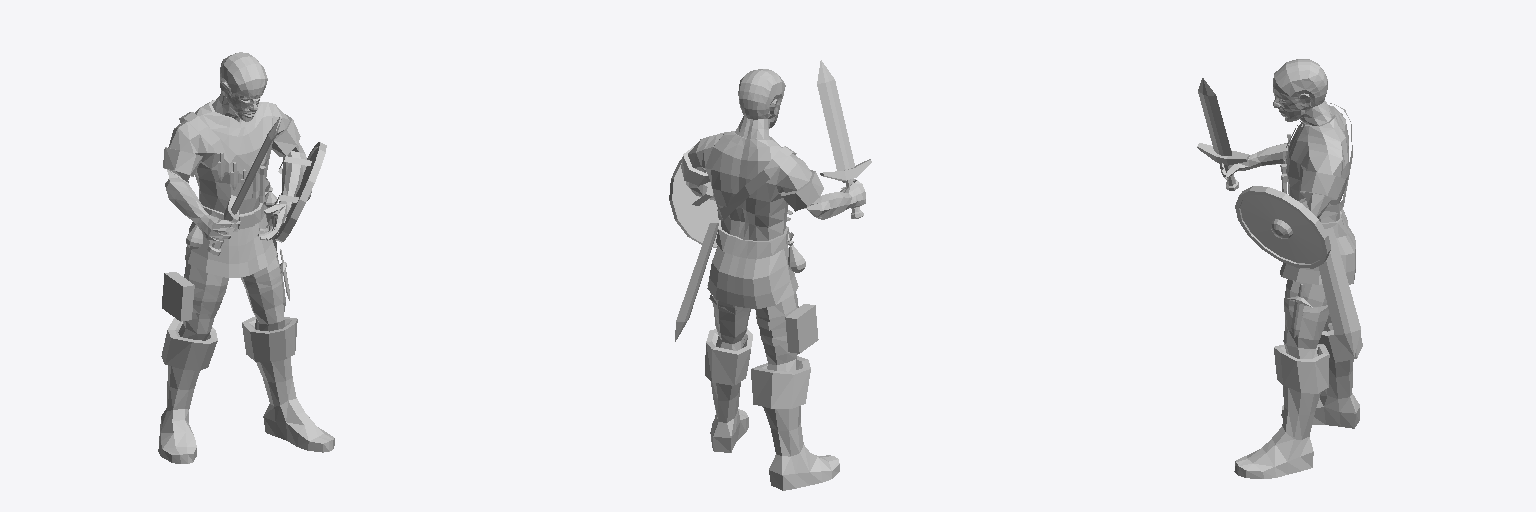
The model's file is char_anim_000170.obj.
3 views of the same model, side by side, from view 1: azimuth 30°, elevation 25°; view 2: azimuth 150°, elevation 25°; view 3: azimuth 270°, elevation 25° (orthographic).
Parts seen in each view (by area): view 1: Body.001, Funda.001_LegBag, Shield, Sword, Bandolera; view 2: Body.001, Sword, Shield, Funda.001_LegBag, Sheat, Bandolera; view 3: Body.001, Shield, Sheat, Sword, LegKnife.
Part boxes in pixels (x1,y1,x2,y2): Body.001: (158, 52, 334, 463); Funda.001_LegBag: (162, 272, 226, 321); Shield: (274, 142, 326, 242); Sword: (207, 117, 279, 255); Bandolera: (179, 112, 269, 191); Body.001: (681, 69, 865, 490); Sword: (817, 60, 871, 218); Shield: (669, 159, 718, 247); Funda.001_LegBag: (756, 304, 818, 353); Sheat: (675, 220, 718, 341); Bandolera: (717, 146, 796, 220); Body.001: (1220, 59, 1362, 478); Shield: (1235, 186, 1330, 268); Sheat: (1318, 227, 1360, 356); Sword: (1197, 78, 1249, 190); LegKnife: (1284, 284, 1328, 337).
Bounding box in the file's own units: 0.9757 × 2.26 × 0.879.